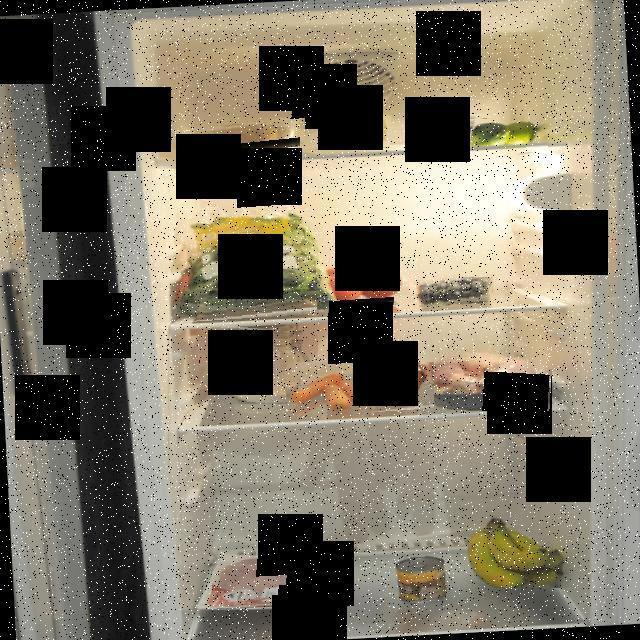banana: (460, 512, 576, 588)
blueberries: (414, 277, 494, 308)
carrot: (286, 362, 434, 418)
cheese: (338, 115, 392, 152)
chicken: (422, 344, 554, 412)
corn: (387, 554, 452, 612)
flour: (216, 324, 318, 404)
goat_cheese: (411, 114, 487, 156)
ham: (212, 556, 331, 610)
lime: (460, 119, 549, 152)
potato: (198, 117, 306, 157)
spinach: (173, 205, 341, 324)
tomato: (316, 254, 409, 310)
